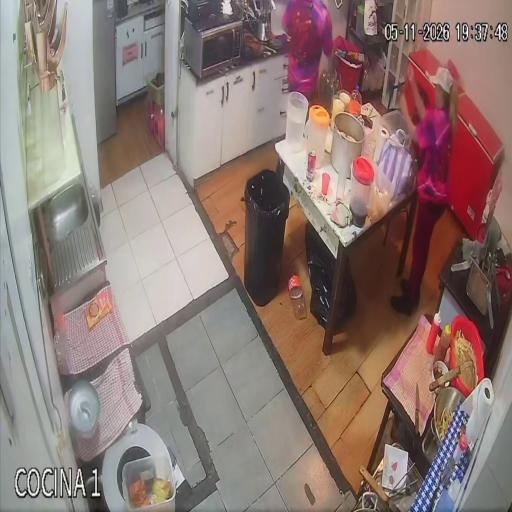Basurero: (244, 169, 289, 306)
Cuchillo1: (415, 383, 420, 434)
Envase Ketchup: (427, 312, 441, 354)
Envase Llajua: (434, 324, 451, 362)
Jarra1: (349, 156, 374, 227)
Jarra2: (305, 105, 330, 168)
Jarra3: (285, 92, 309, 152)
Microondas: (183, 15, 242, 77)
Persona1: (282, 0, 332, 98)
Persona2: (390, 66, 458, 315)
Tapa de olla: (68, 380, 100, 439)
Taper: (122, 454, 175, 512)
Taper2: (380, 109, 411, 149)
Taper4: (368, 169, 394, 220)
Vaso1: (322, 173, 330, 195)
olla1: (331, 112, 365, 179)
